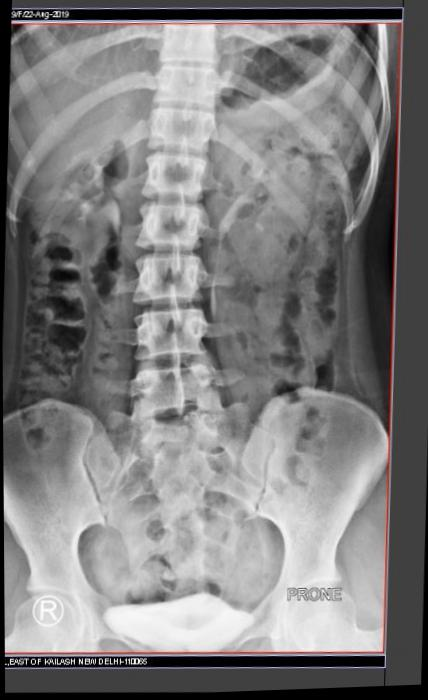bladder: (102, 577, 258, 656)
left kidney: (213, 129, 327, 296)
vertebrae: (140, 153, 211, 202)
